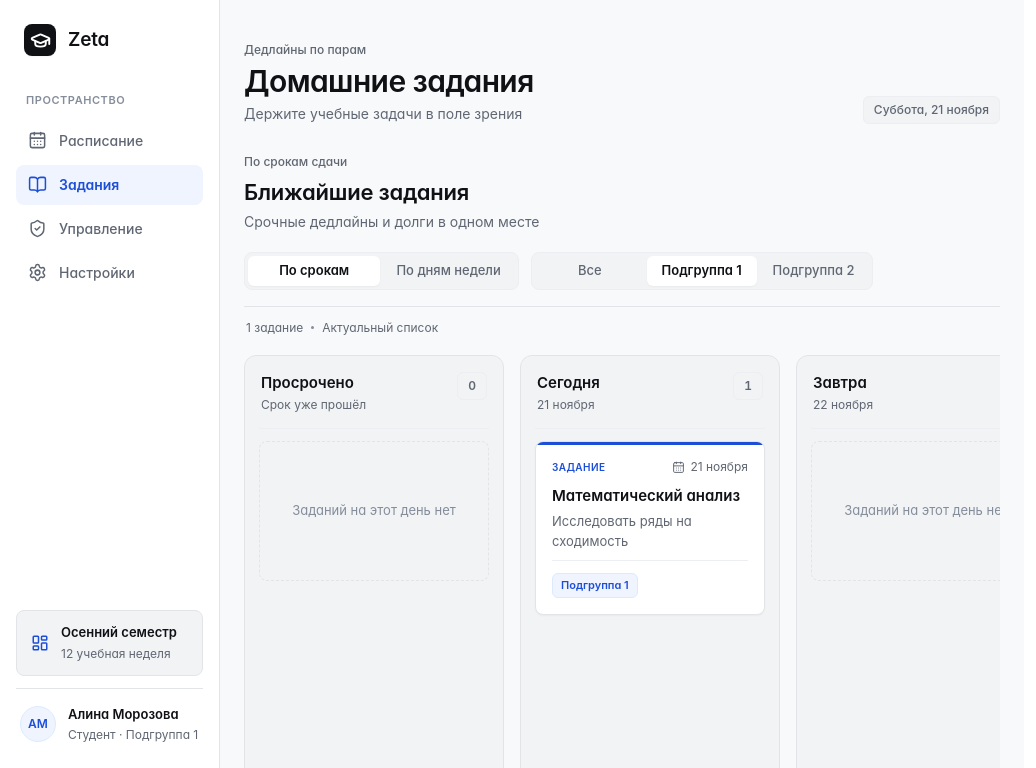
it: HomeworkPage › filters cards by subgroup without introducing homework statuses
expect the text "Исследовать ряды на сходимость" is shown: met, box [552, 513, 692, 549]
Step 1. Click the button "Подгруппа 2" → (814, 270), box [759, 256, 868, 286]
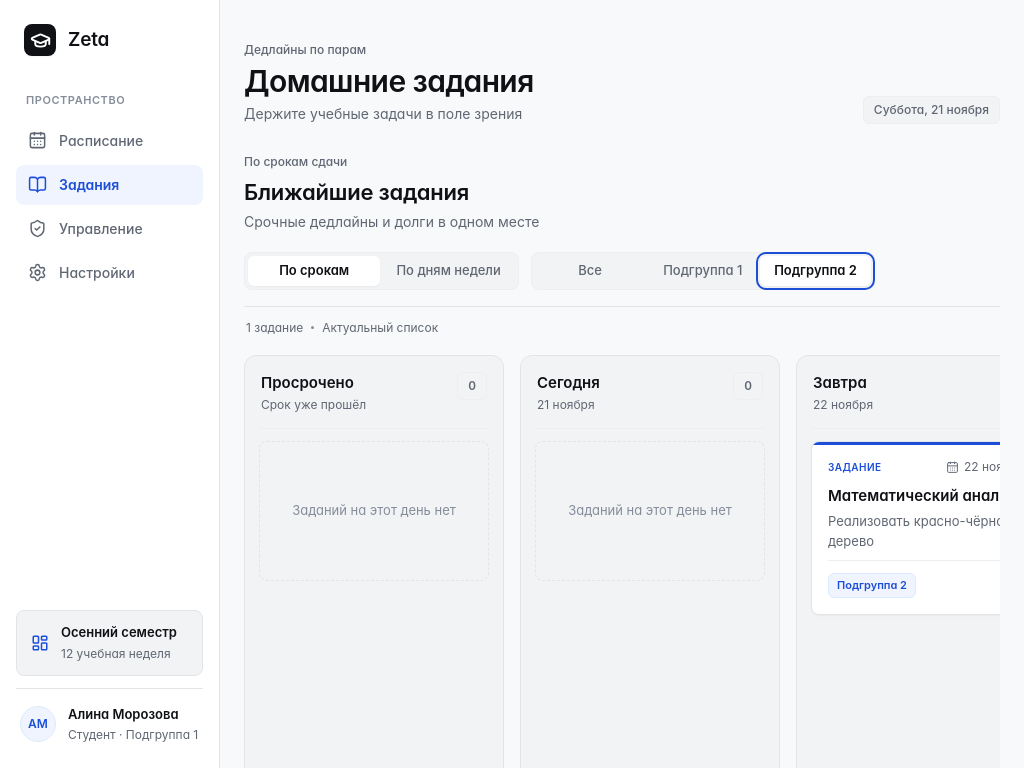
expect the heading "Сегодня" is shown: met, box [537, 372, 600, 394]
expect the text "Исследовать ряды на сходимость" is gone: met
expect the text "Реализовать красно-чёрное дерево" is shown: met, box [828, 512, 1000, 551]
